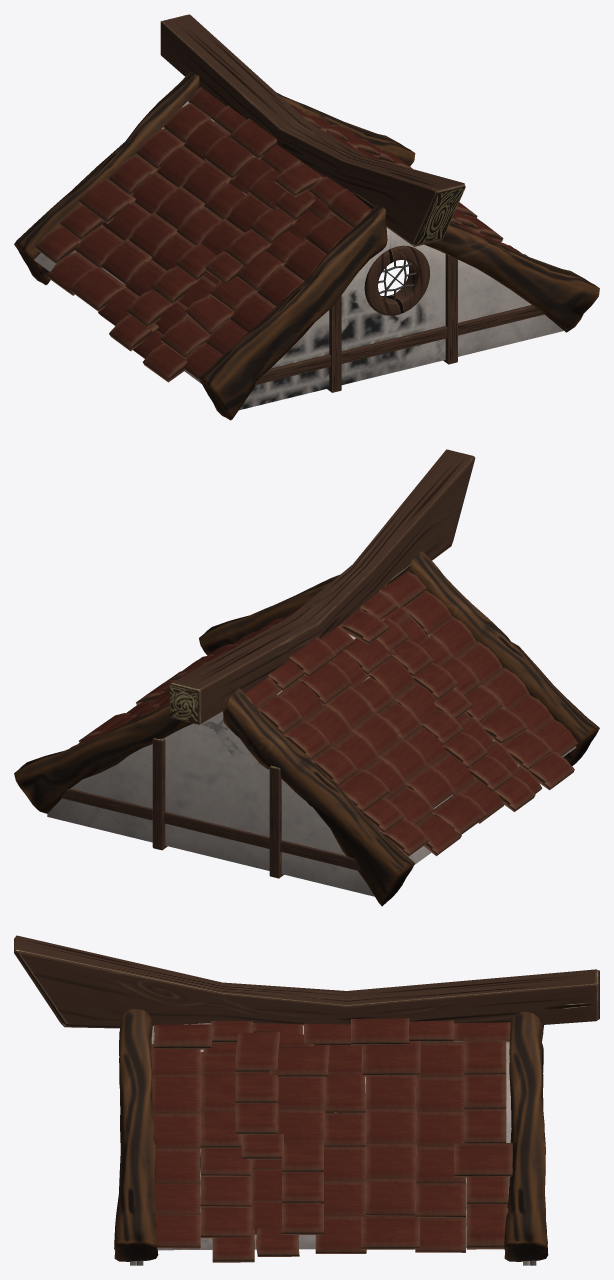
File: Roof_Modular_V1.fbx
3 views of the same model, one above another, from view 1: azimuth 30°, elevation 25°; view 2: azimuth 150°, elevation 25°; view 3: azimuth 270°, elevation 25° (orthographic). The views are drawn at different scales.
Visible parts, largest first — view 1: Roof_Modular_V1; view 2: Roof_Modular_V1; view 3: Roof_Modular_V1.
Boxes of the visible parts, x1,y1,x2,y2 form: Roof_Modular_V1: (14, 14, 599, 420); Roof_Modular_V1: (14, 449, 599, 906); Roof_Modular_V1: (14, 935, 599, 1265).
Size of the model in its own units: 555 by 311 by 670.
